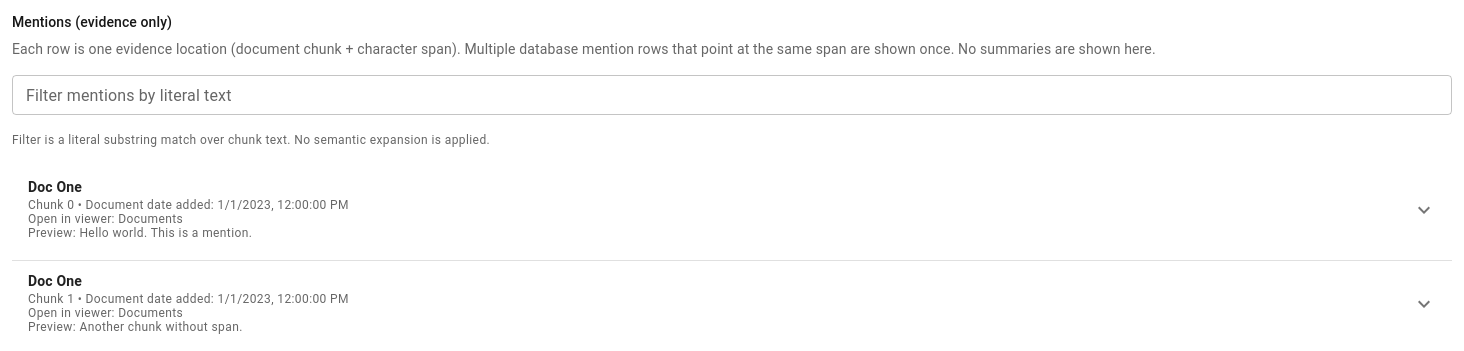
Test case: EntityMentionsList › filters mentions by text
Type "Hello" into the field labelled "Filter mentions by literal text" at point(732, 95), box x1=12 y1=75 x2=1452 y2=115
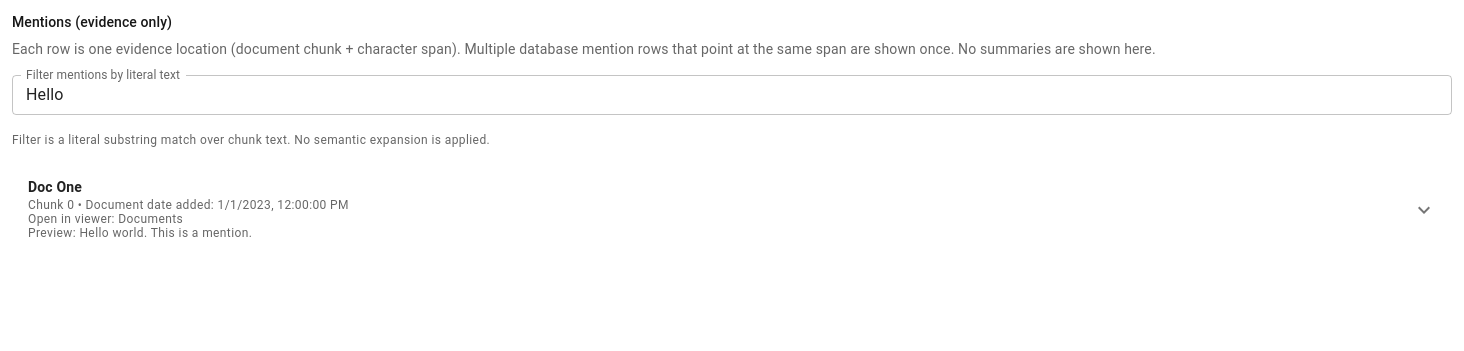
Expected: the text "Preview: Hello world. This is a mention." is shown, x1=28 y1=226 x2=252 y2=240
Expected: the button "Another chunk" is gone
